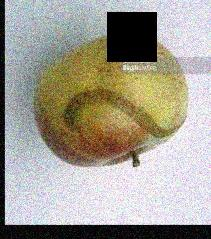rotten apple: (29, 30, 194, 172)
